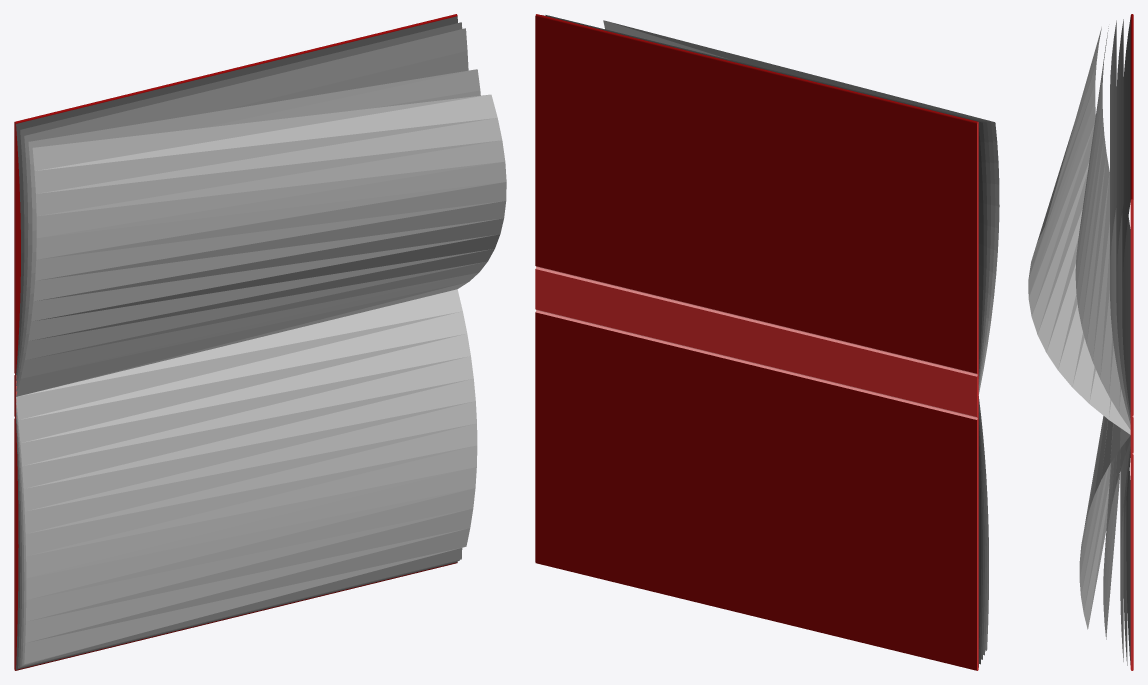
3 renders of one model, left to right at view 1: azimuth 30°, elevation 25°; view 2: azimuth 150°, elevation 25°; view 3: azimuth 270°, elevation 25°, orthographic. The views are drawn at different scales.
Parts seen in each view (by area): view 1: book; view 2: book; view 3: book.
Boxes of the visible parts, x1,y1,x2,y2 form: book: (14, 14, 506, 670); book: (535, 14, 999, 670); book: (1028, 14, 1133, 670).
Size of the model in its own units: 165 by 196 by 39.57.
